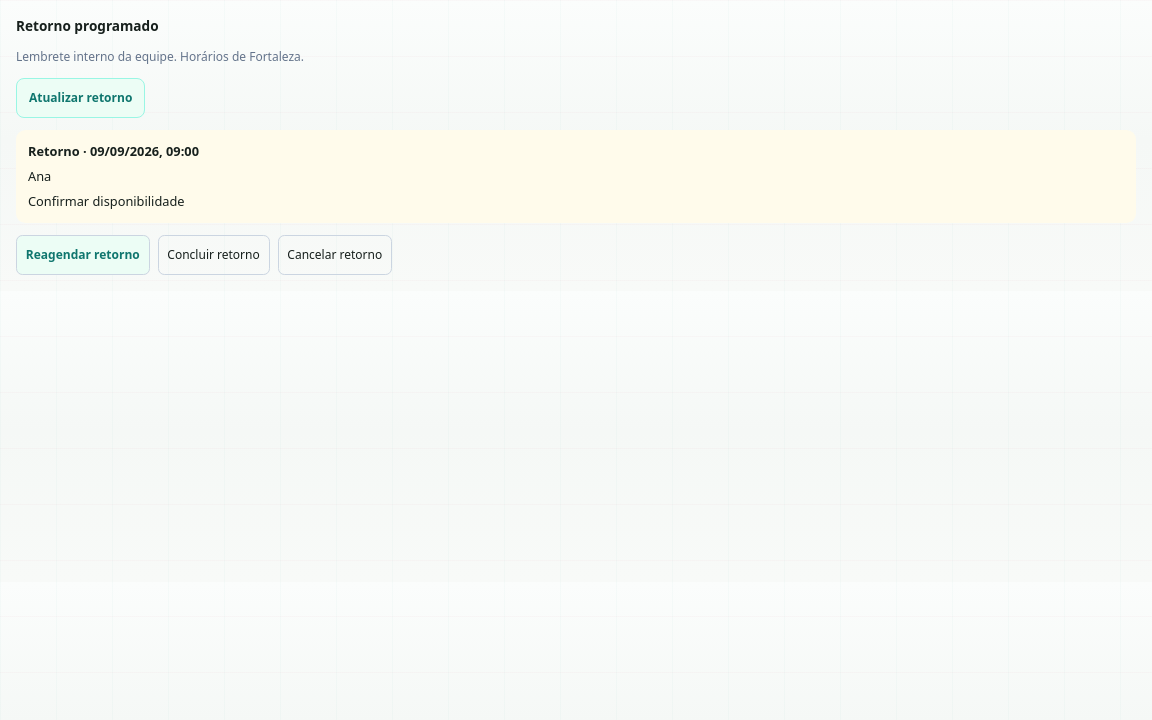
Test: retornos internos do WhatsApp › exige revisão explícita após conflito e mantém o texto digitado
Click the button "Reagendar retorno". click: (83, 255)
box: [16,235,150,275]
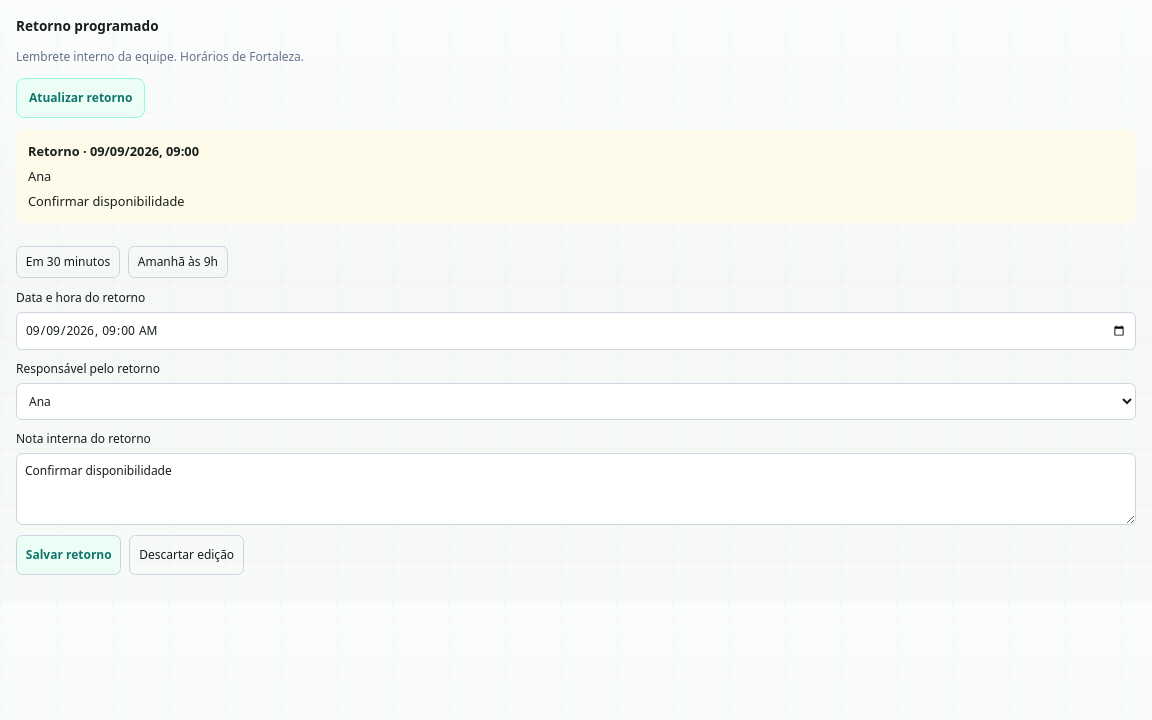
Replace the text in the text box labelled "Nota interna do retorno" with "Retornar para confirmar". click: (576, 489)
box: [16,453,1136,525]
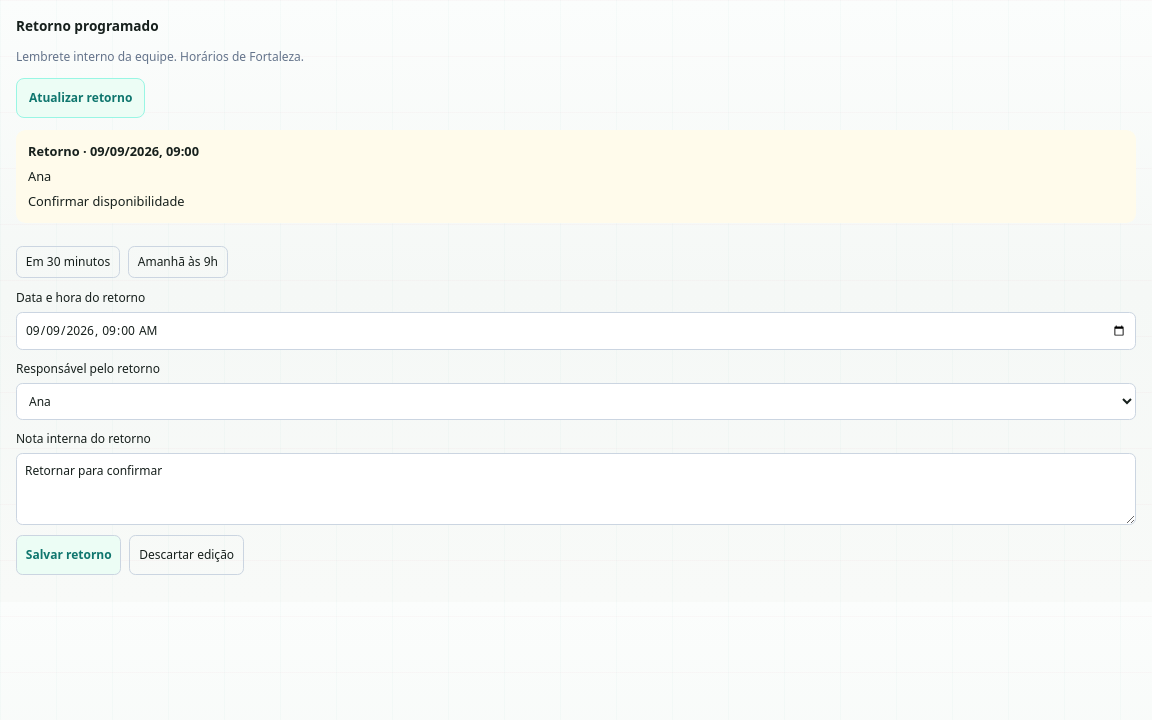
Click the button "Salvar retorno". click: (69, 555)
box: [16,535,122,575]
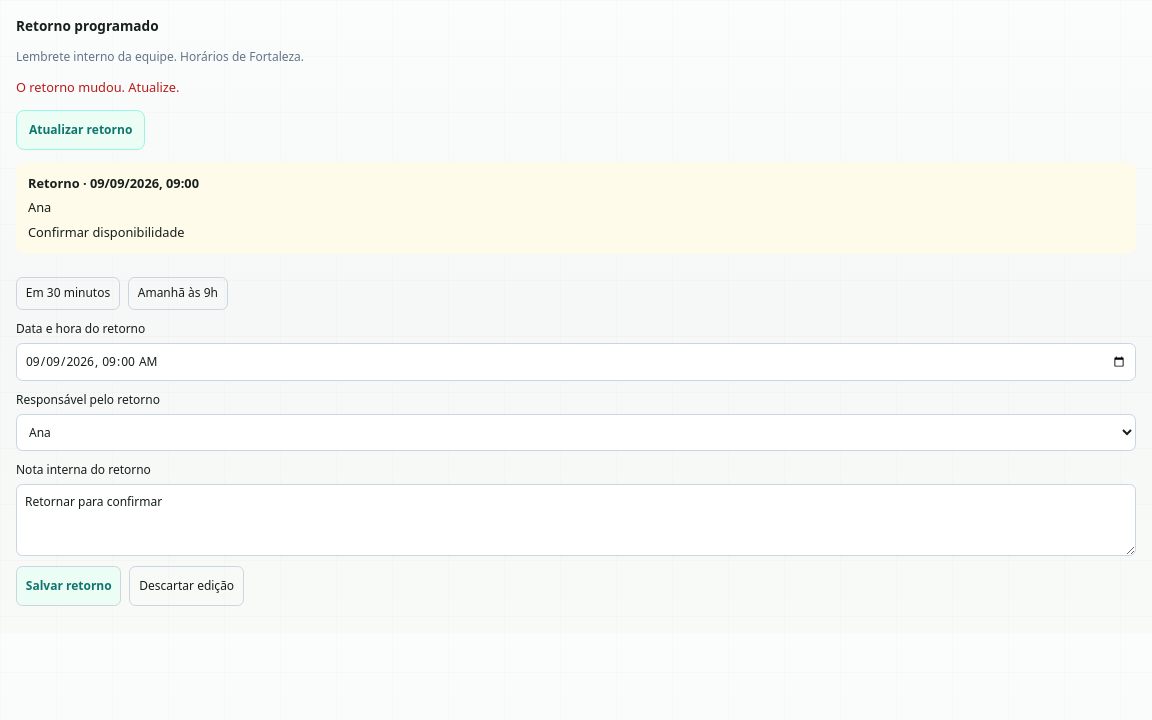
Result: the message shows "Atualize" at [16,78,180,96]
Click the button "Atualizar retorno". click: (81, 130)
box: [16,110,145,150]
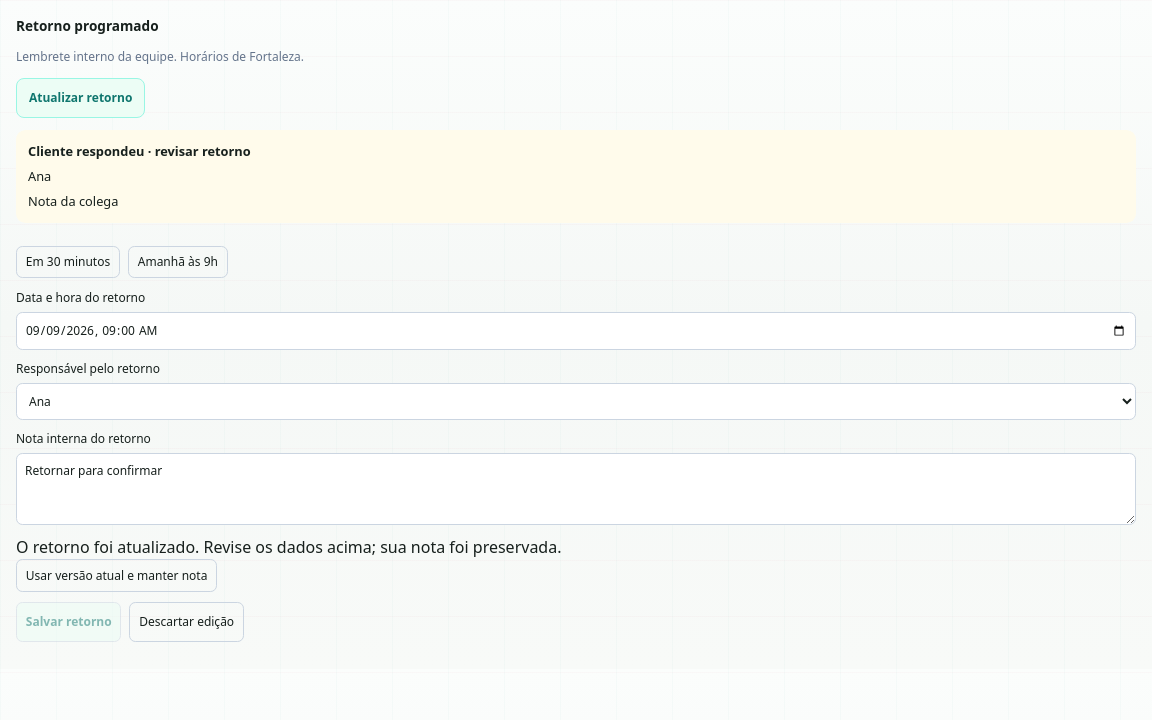
Result: the text "Nota da colega" is shown at [28,192,118,210]
Result: the button "Salvar retorno" is disabled at [16,602,122,642]
Result: the text "Cliente respondeu · revisar retorno" is shown at [28,142,251,160]
Click the button "Usar versão atual e manter nota". click: (117, 576)
box: [16,559,217,592]
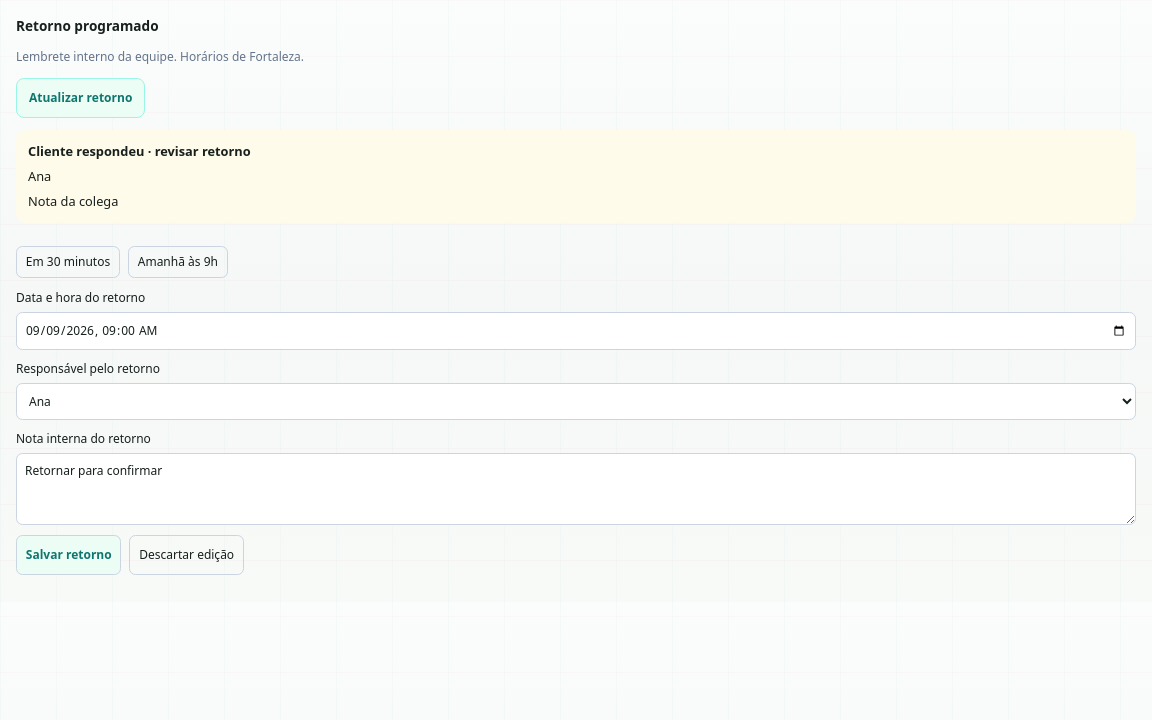
Result: the button "Salvar retorno" is enabled at [16,535,122,575]
